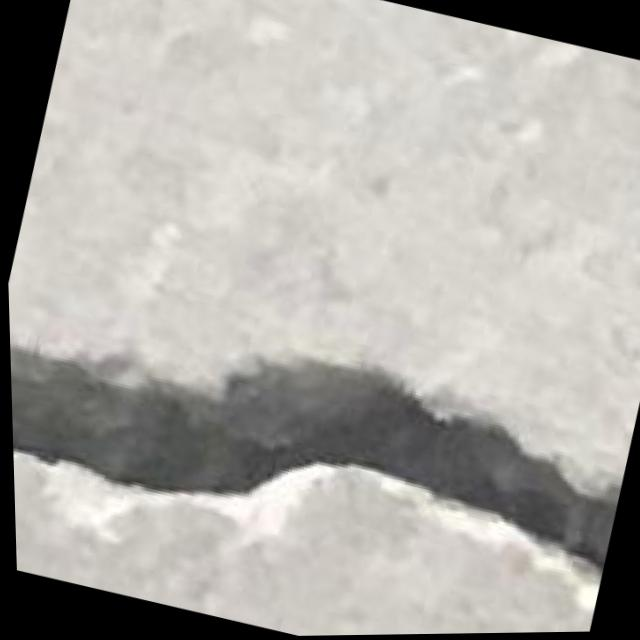Crack: (6, 257, 640, 640)
